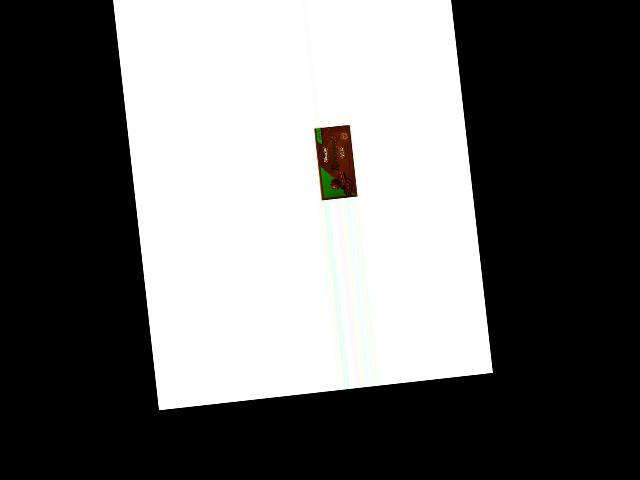chocolate: (310, 122, 359, 201)
